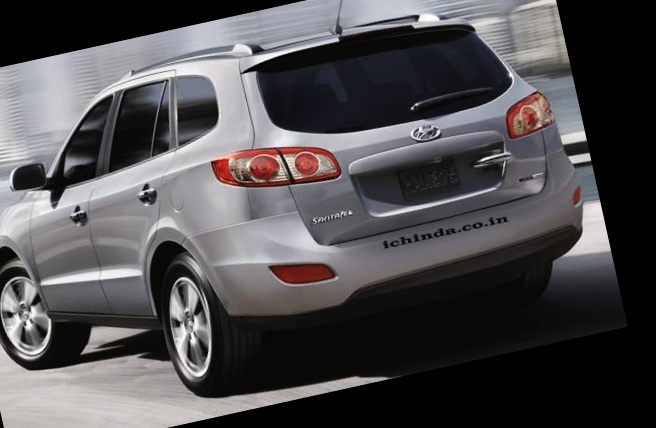car: (0, 0, 623, 428)
